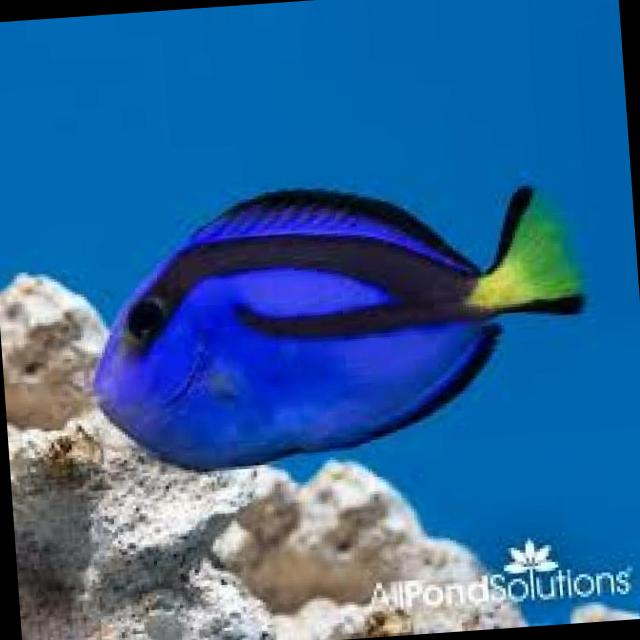TangFish: (77, 162, 598, 484)
